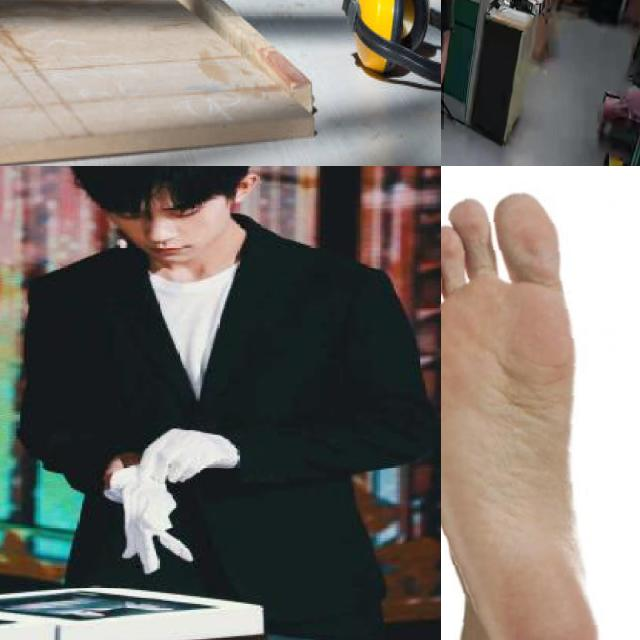Barefoots: (441, 166, 615, 640)
Ear-protection: (338, 0, 441, 113)
face_nomask: (107, 182, 231, 264)
hand_glove: (116, 484, 200, 573), (138, 428, 225, 484)
head_nohelmet: (66, 166, 259, 197)
person: (20, 166, 441, 640)
